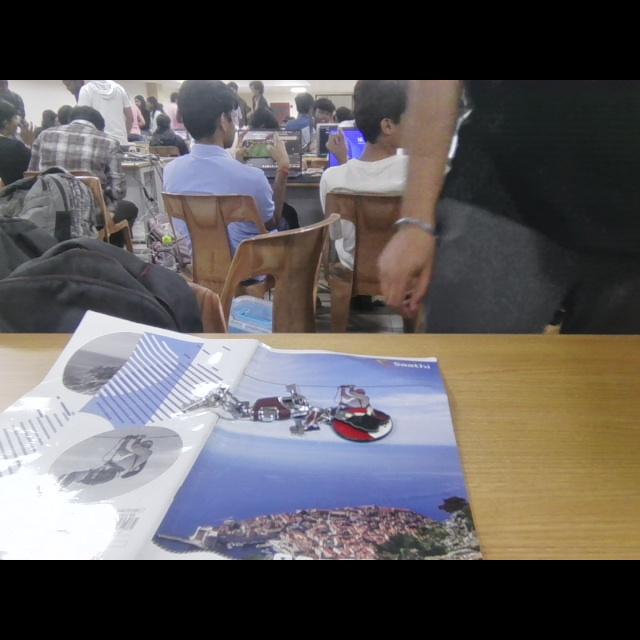keys: (175, 373, 399, 461)
